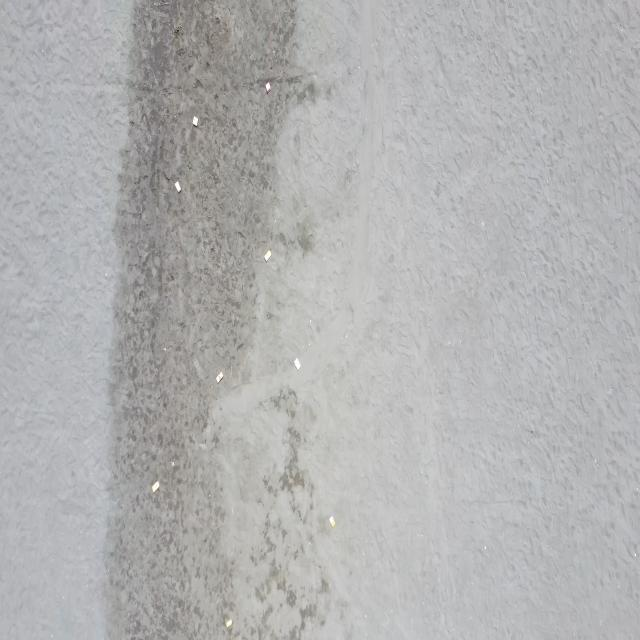retort-pouch: (174, 178, 182, 196), (152, 478, 160, 494), (294, 357, 302, 373), (264, 80, 272, 96), (328, 514, 336, 529), (264, 248, 272, 263), (192, 114, 200, 128), (225, 617, 233, 629), (216, 372, 223, 384)
